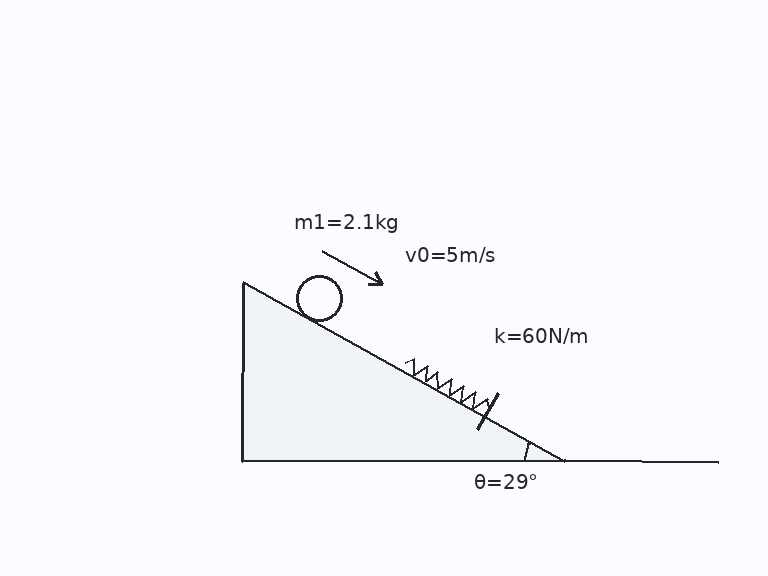ball: (294, 273, 344, 323)
ramp: (241, 281, 567, 463)
spring: (403, 357, 491, 411)
